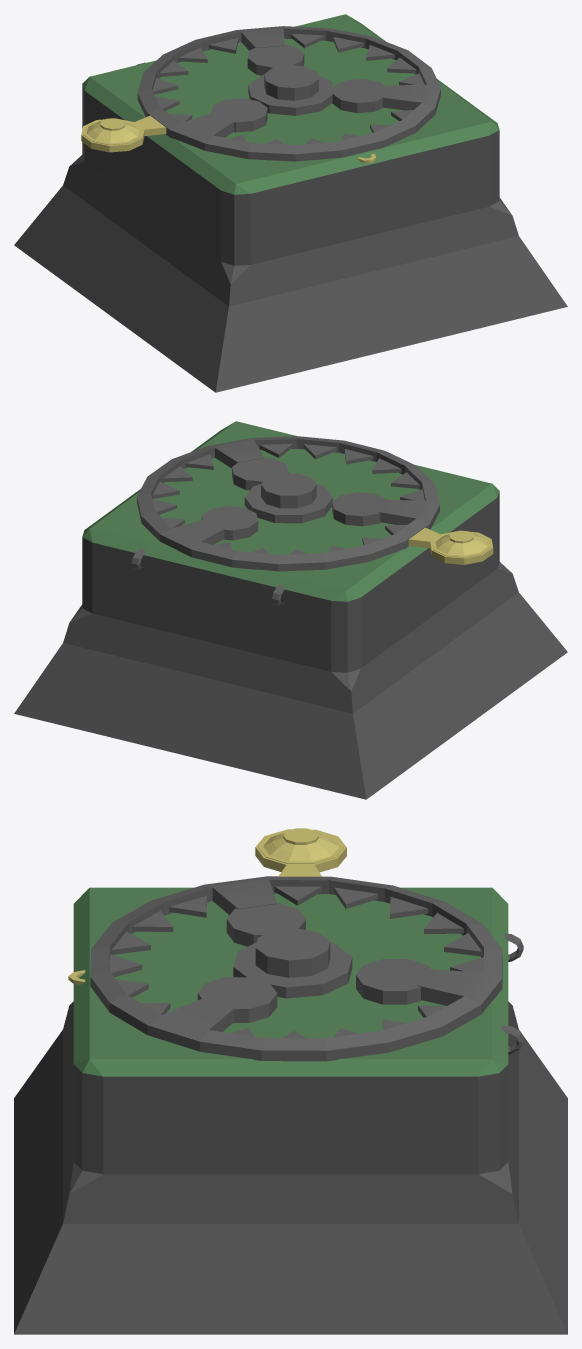
File: obj_Lockerbox_B.fbx
The picture shows the model from 3 angles, top to bottom: view 1: azimuth 30°, elevation 25°; view 2: azimuth 150°, elevation 25°; view 3: azimuth 270°, elevation 25°; orthographic projection. The views are drawn at different scales.
Visible parts, largest first — view 1: Box, Lid_Wheel; view 2: Box, Lid_Wheel; view 3: Box, Lid_Wheel.
Part boxes in pixels (x1,y1,x2,y2): Box: (14, 62, 567, 392); Lid_Wheel: (81, 14, 499, 194); Box: (14, 491, 567, 799); Lid_Wheel: (82, 421, 499, 601); Box: (14, 933, 567, 1334); Lid_Wheel: (68, 828, 508, 1076).
Size of the model in its own units: 400 by 201 by 371.
